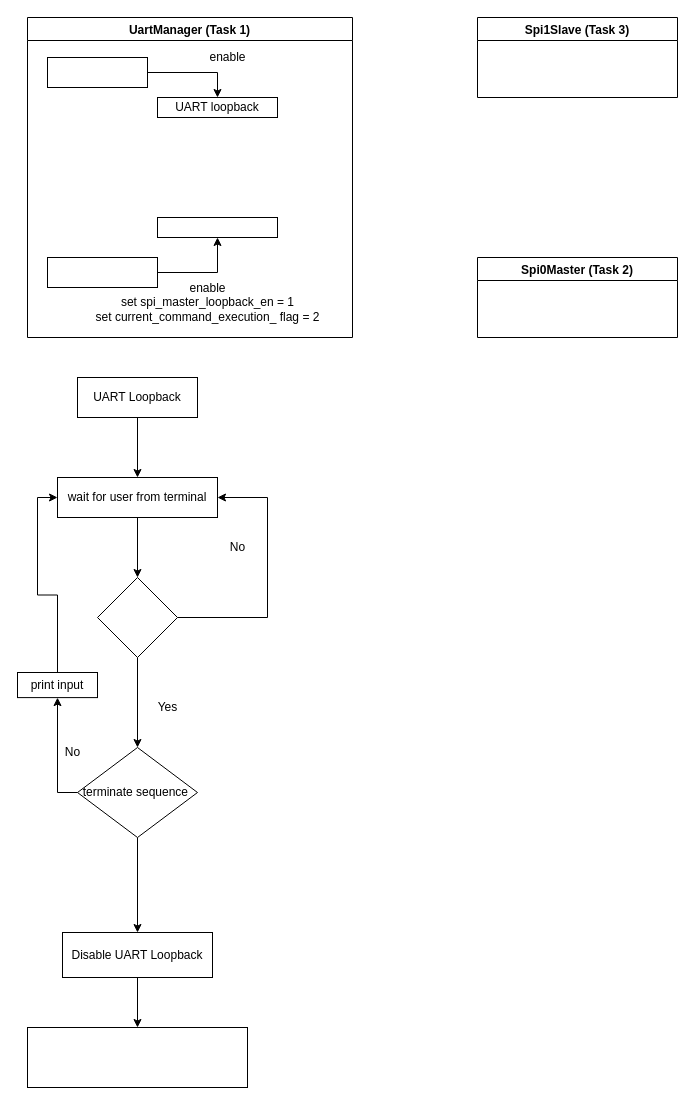
The diagram is 695 pixels wide and 1105 high, and some of its shapes have lost their labels. The shapes that lost their labels are listed below. From the top down, each one's centre as x and y in pixels, then its label:
the point at 97,72: Command 1
the point at 217,227: master loopback
the point at 102,272: Command 2
the point at 137,617: input
the point at 137,1057: Command Selection (current_comman_execution flag = 1)
